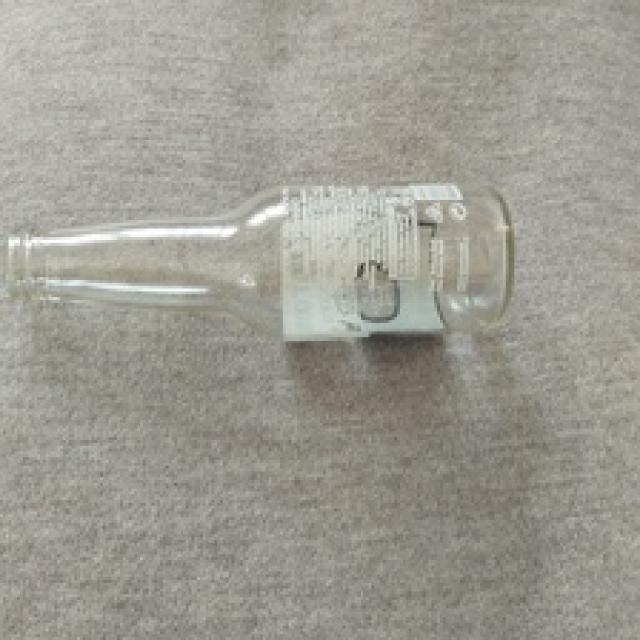Glass: (7, 182, 512, 344)
